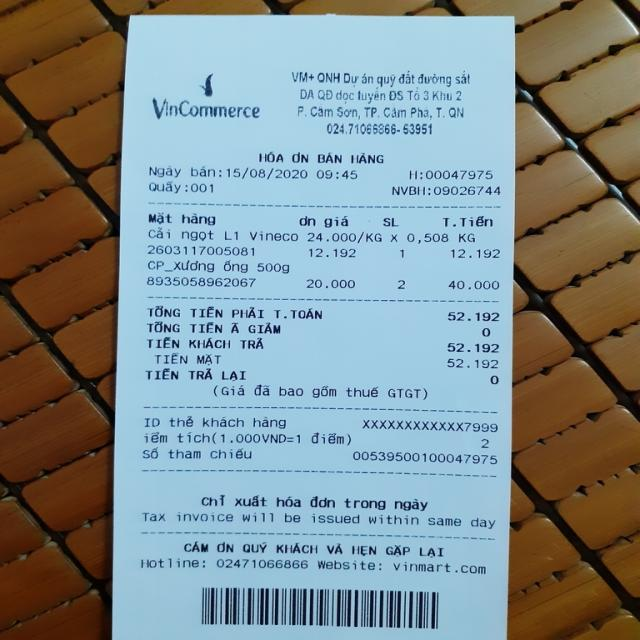Date: (227, 165, 310, 181)
Store_Name: (148, 94, 266, 122)
amount_number: (448, 310, 502, 325)
label_total: (146, 302, 328, 322)
